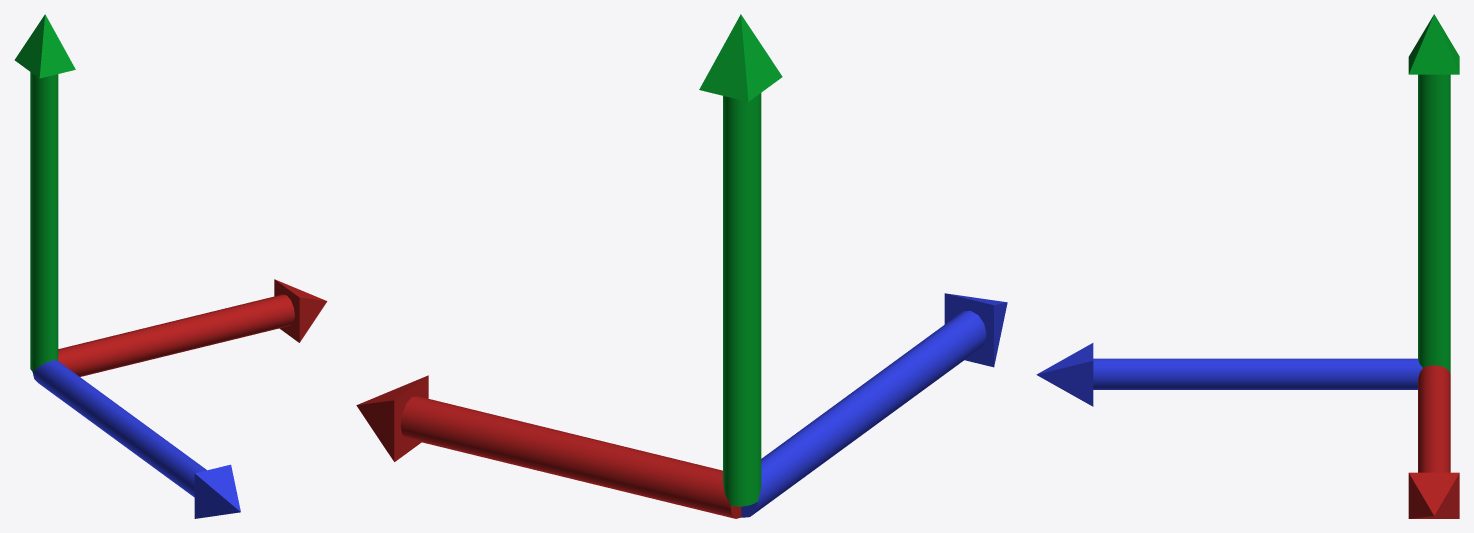
The model's file is AxisHelper.gltf.
3 views of the same model, side by side, from view 1: azimuth 30°, elevation 25°; view 2: azimuth 150°, elevation 25°; view 3: azimuth 270°, elevation 25° (orthographic). The views are drawn at different scales.
Parts seen in each view (by area): view 1: Cylinder001, Cylinder003, Cylinder002; view 2: Cylinder001, Cylinder003, Cylinder002; view 3: Cylinder002, Cylinder001, Cylinder003.
Part boxes in pixels (x1,y1,x2,y2): Cylinder001: (14, 14, 75, 371); Cylinder003: (58, 279, 327, 376); Cylinder002: (32, 360, 240, 518); Cylinder001: (699, 14, 782, 506); Cylinder003: (356, 375, 741, 518); Cylinder002: (741, 293, 1007, 517); Cylinder002: (1036, 343, 1422, 406); Cylinder001: (1408, 14, 1459, 373); Cylinder003: (1408, 365, 1459, 518).
Size of the model in its own units: 0.3103 by 0.3739 by 0.3728.
